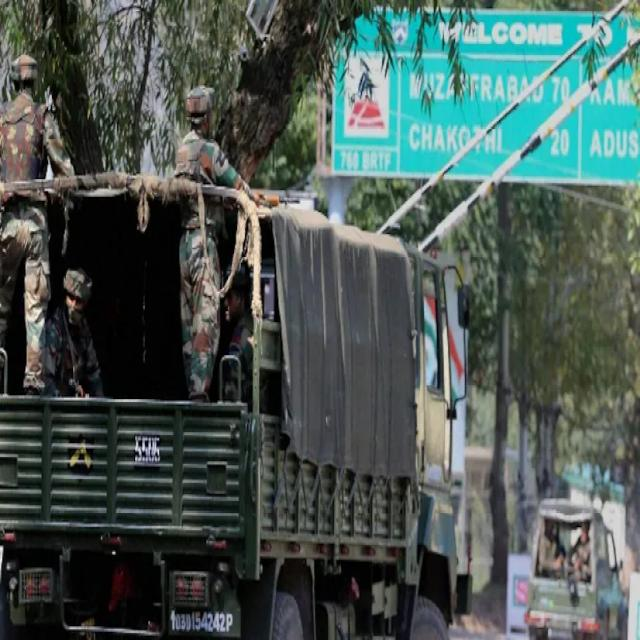military-plate: (168, 601, 236, 635)
unit number: (134, 431, 160, 472)
